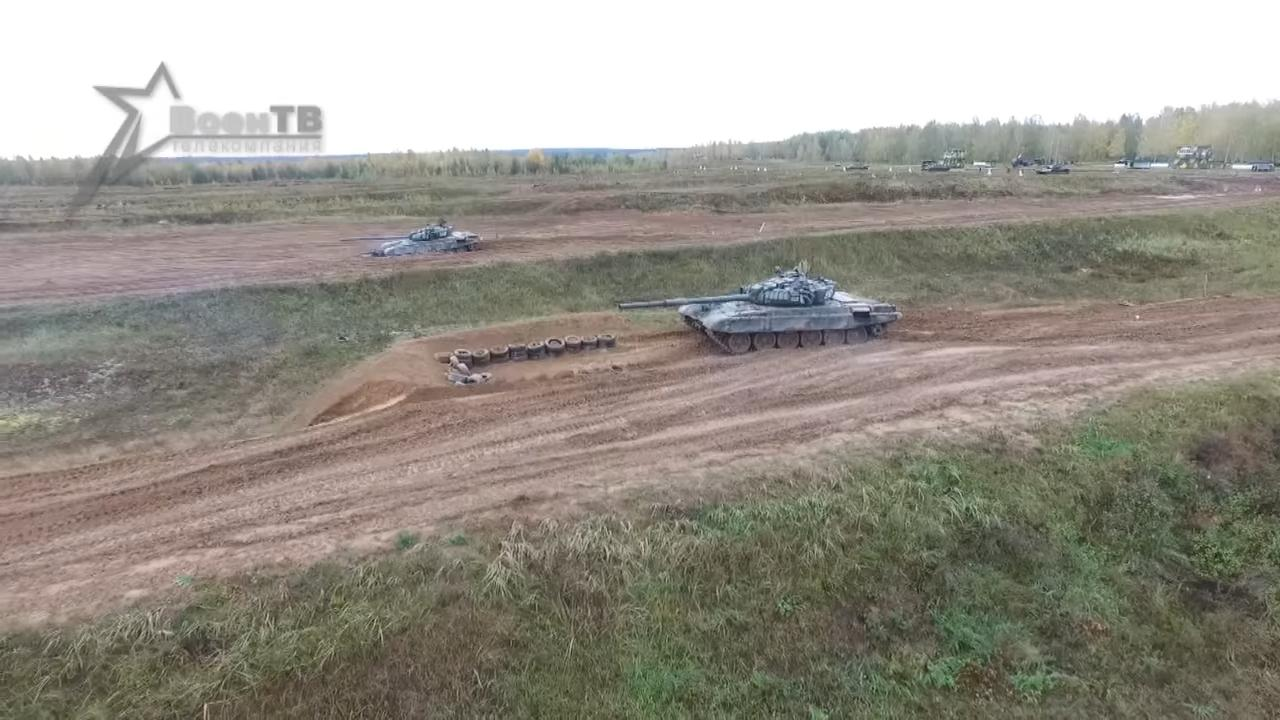tank: (620, 270, 903, 354), (341, 223, 481, 257)
